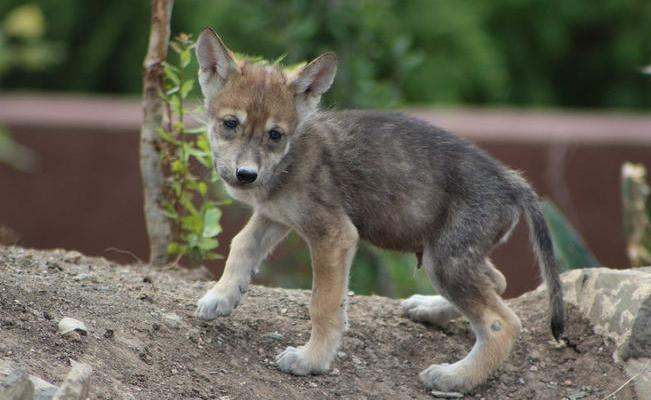Lobo: (172, 16, 577, 391)
